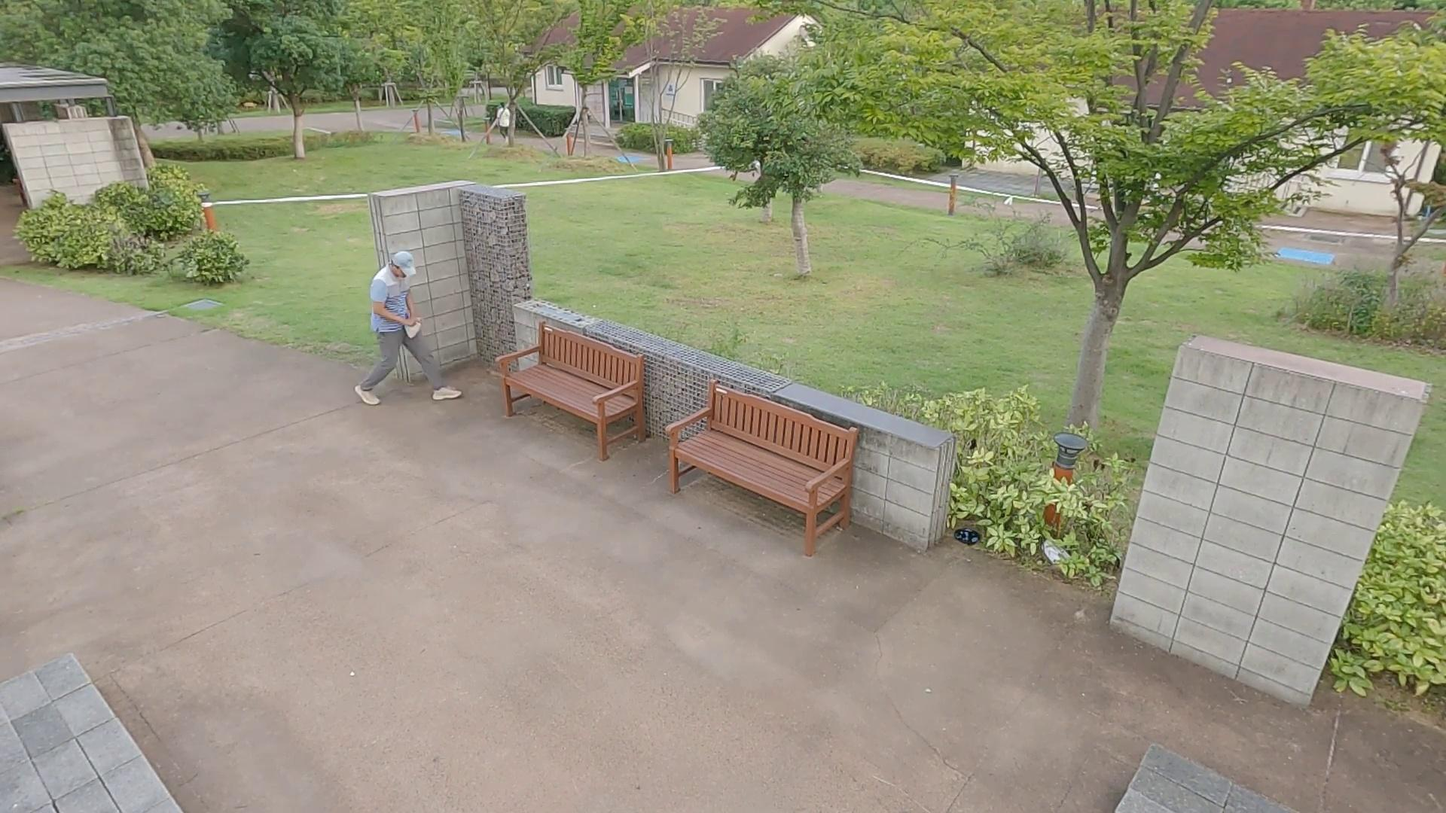person: (356, 248, 464, 410), (491, 99, 516, 144)
trash: (1044, 540, 1072, 569), (956, 525, 984, 550), (398, 312, 424, 337)
